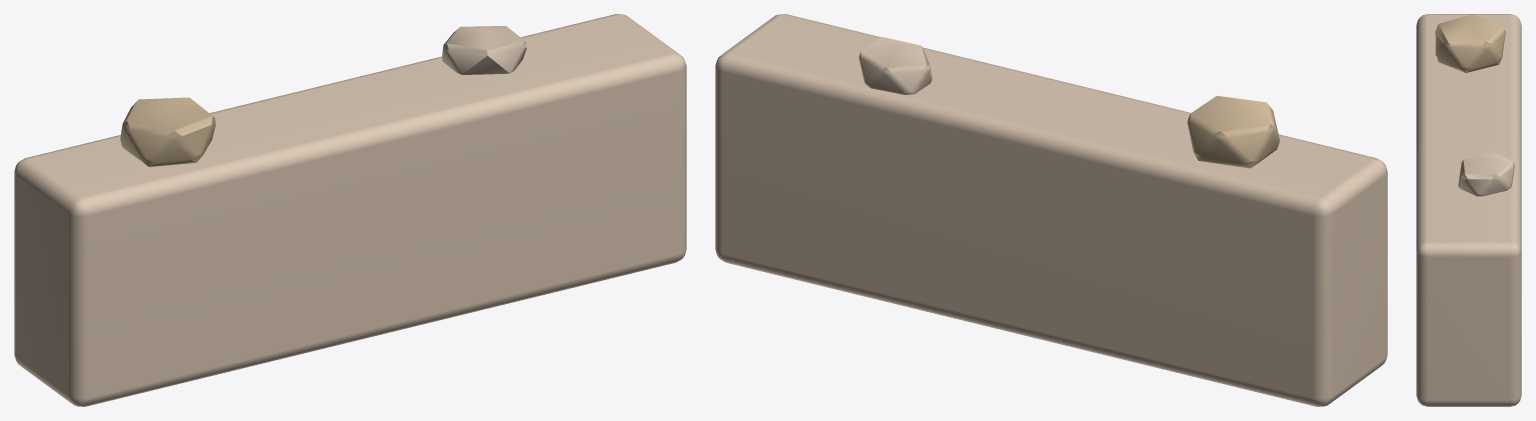
File: prop_stone_wall.glb
3 renders of one model, left to right at view 1: azimuth 30°, elevation 25°; view 2: azimuth 150°, elevation 25°; view 3: azimuth 270°, elevation 25°, orthographic. The views are drawn at different scales.
Visible parts, largest first — view 1: wall_body, wall_r0, wall_r1; view 2: wall_body, wall_r0, wall_r1; view 3: wall_body, wall_r0, wall_r1.
Boxes of the visible parts, <box> form: wall_body: <box>14,14,686,406</box>; wall_r0: <box>120,97,215,166</box>; wall_r1: <box>442,26,526,74</box>; wall_body: <box>715,14,1387,406</box>; wall_r0: <box>1187,96,1279,168</box>; wall_r1: <box>858,37,932,94</box>; wall_body: <box>1416,14,1521,406</box>; wall_r0: <box>1435,14,1505,72</box>; wall_r1: <box>1458,151,1514,196</box>.
Size of the model in its own units: 1.7 by 0.6717 by 0.32.
